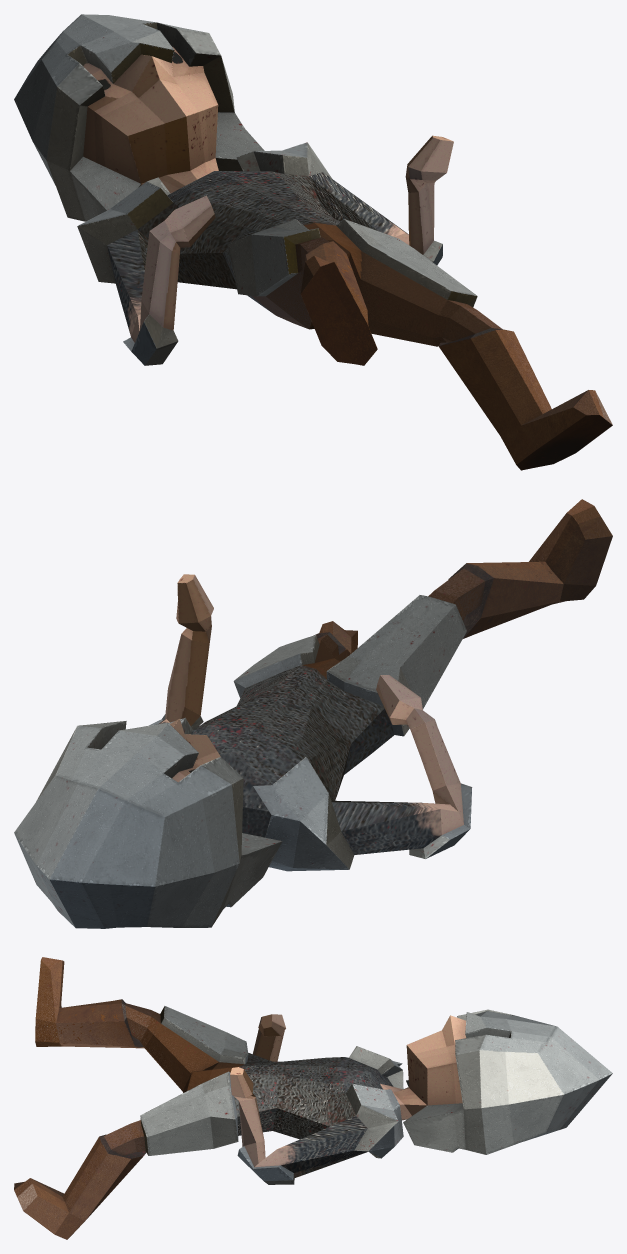
File: Walk_Soldier_5.obj
3 renders of one model, top to bottom at view 1: azimuth 30°, elevation 25°; view 2: azimuth 150°, elevation 25°; view 3: azimuth 270°, elevation 25°, orthographic. The views are drawn at different scales.
Visible parts, largest first — view 1: Soldado_LowPolySTD; view 2: Soldado_LowPolySTD; view 3: Soldado_LowPolySTD.
Boxes of the visible parts, box(x1,y1,x2,y2) form: Soldado_LowPolySTD: box(14, 14, 612, 470); Soldado_LowPolySTD: box(14, 499, 612, 928); Soldado_LowPolySTD: box(14, 957, 612, 1239).
Size of the model in its own units: 0.7087 by 0.5964 by 1.63.
